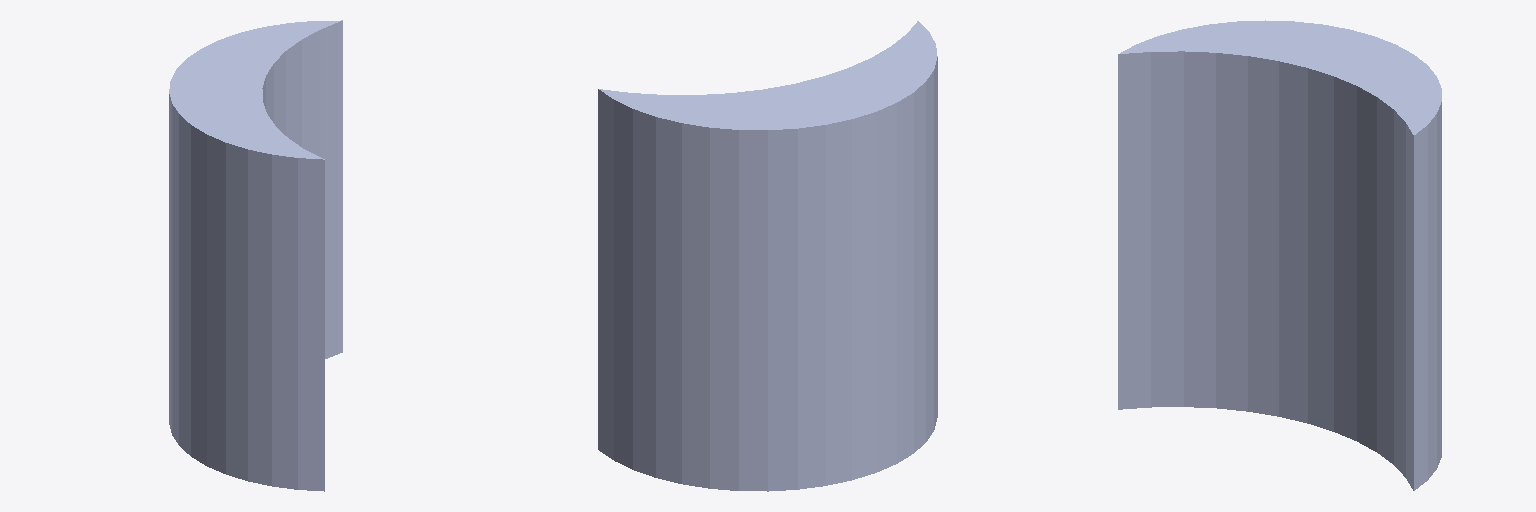
The robot description file, URDF, robot "luna_v2":
<?xml version="1.0"?>

<robot
  name="luna_v2">
  <link
    name="luna_link">
    <inertial>
      <origin
        xyz="-0.11965 0.05 0.074259"
        rpy="0 0 0" />
      <mass
        value="0.19673" />
      <inertia
        ixx="15"
        ixy="-8.807E-21"
        ixz="-1.0857E-19"
        iyy="15"
        iyz="9.5218E-21"
        izz="15" />
    </inertial>
    <visual>
      <origin
        xyz="0.12 0 0"
        rpy="0 0 0" />
      <geometry>
        <mesh
          filename="package://brazo/meshes/luna_link.STL" />
      </geometry>
      <material
        name="">
        <color
          rgba="0.79216 0.81961 0.93333 1" />
      </material>
    </visual>
    <collision>
      <origin
        xyz="0.12 0 0"
        rpy="0 0 0" />
      <geometry>
        <mesh
          filename="package://brazo/meshes/luna_link.STL" />
      </geometry>
    </collision>
  </link>

  <gazebo reference= "luna_link">
    <material>Gazebo/Red</material>
    <mu1>10.0</mu1> 
    <mu2>10.0</mu2>
    <selfCollide>false</selfCollide>
  </gazebo>

</robot>

--- Render facts (derived) ---
The picture shows the robot from 3 angles, left to right: view 1: azimuth 30°, elevation 25°; view 2: azimuth 150°, elevation 25°; view 3: azimuth 270°, elevation 25°; orthographic projection.
Robot: luna_v2 — 1 links, 0 joints (none); root link luna_link; default pose: every joint at zero.
Links seen in each view (by area): view 1: luna_link; view 2: luna_link; view 3: luna_link.
Boxes of the visible links, bbox=[...] form: luna_link: bbox=[169, 20, 342, 491]; luna_link: bbox=[598, 21, 937, 491]; luna_link: bbox=[1118, 20, 1441, 490].
Bounding box of the posed robot: 0.0696 × 0.0825 × 0.1 m (x, y, z).
1 mesh visuals loaded from 1 distinct referenced files (1 binary STL).
